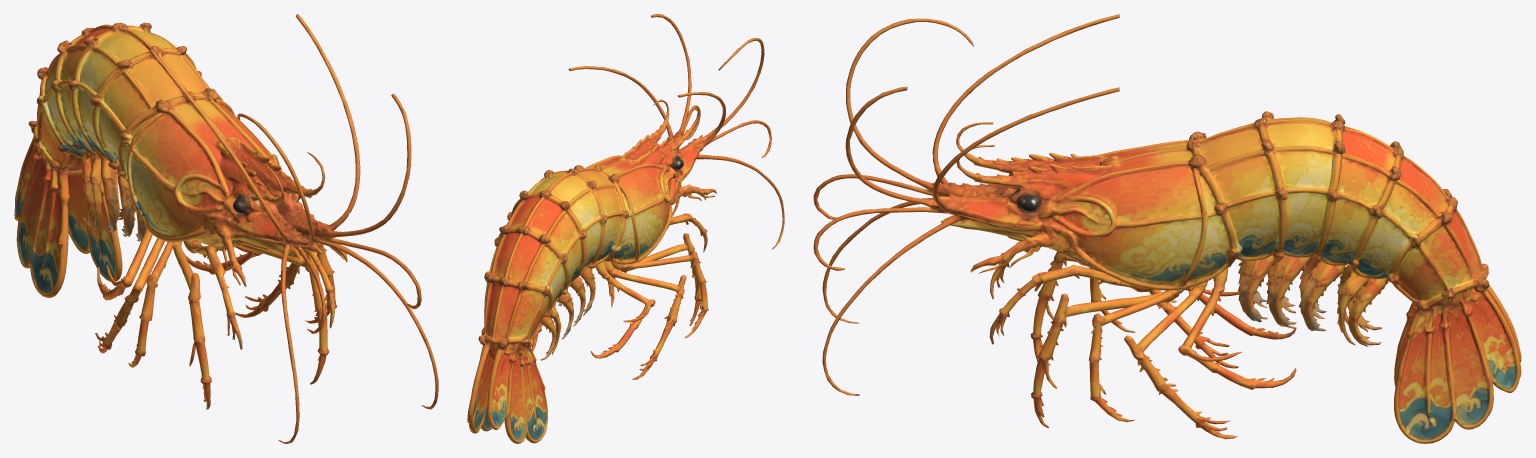
The model's file is 赤焰虾灯50000.glb.
3 views of the same model, side by side, from view 1: azimuth 30°, elevation 25°; view 2: azimuth 150°, elevation 25°; view 3: azimuth 270°, elevation 25° (orthographic). The views are drawn at different scales.
Parts seen in each view (by area): view 1: tripo_node_ee42d069-f11e-4ac1-8115-c679273164dd; view 2: tripo_node_ee42d069-f11e-4ac1-8115-c679273164dd; view 3: tripo_node_ee42d069-f11e-4ac1-8115-c679273164dd.
Boxes of the visible parts, left/top/right/bottom form: tripo_node_ee42d069-f11e-4ac1-8115-c679273164dd: left=14, top=14, right=438, bottom=443; tripo_node_ee42d069-f11e-4ac1-8115-c679273164dd: left=467, top=14, right=784, bottom=443; tripo_node_ee42d069-f11e-4ac1-8115-c679273164dd: left=813, top=14, right=1521, bottom=443.
Size of the model in its own units: 0.3384 by 0.5874 by 1.
Materials: 1 (1 with a texture image).
